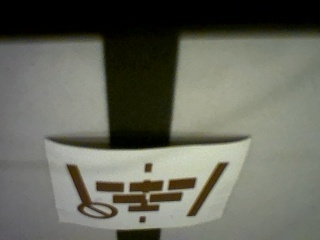Clearing_Zone: (62, 162, 230, 222)
